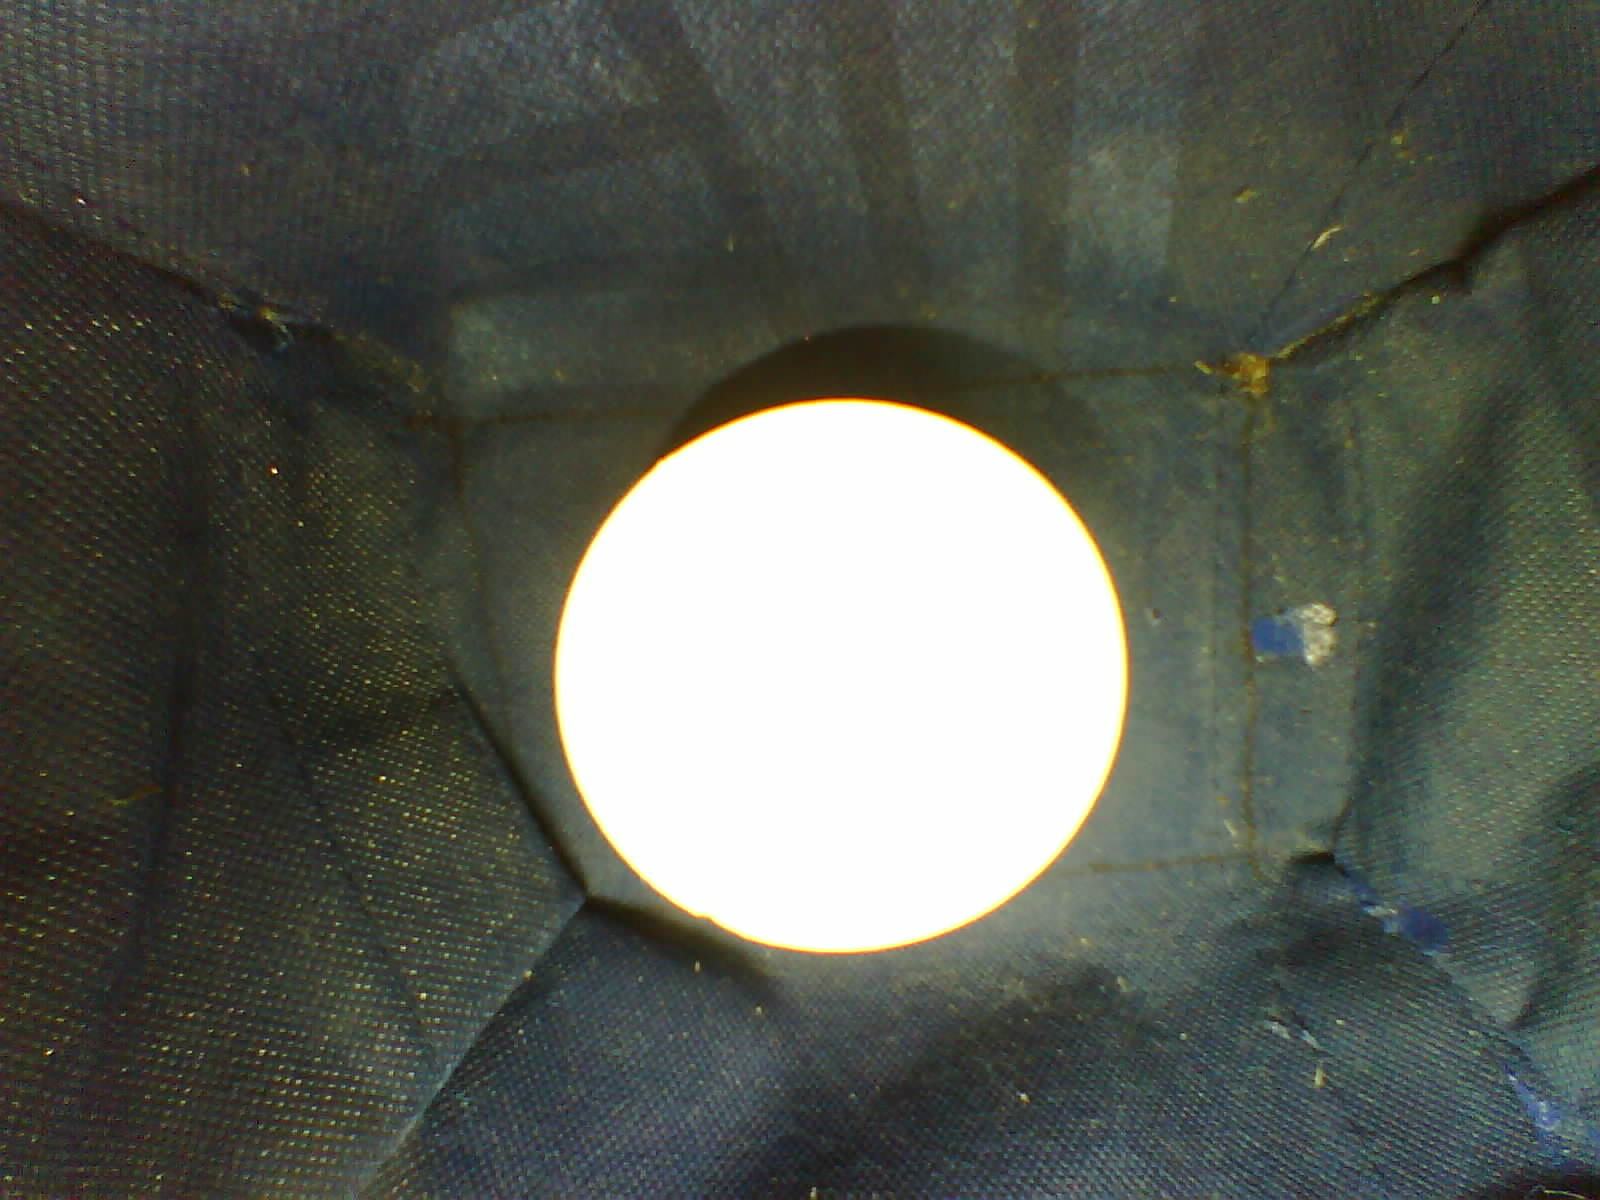cylinder-hard: (535, 387, 1154, 988)
